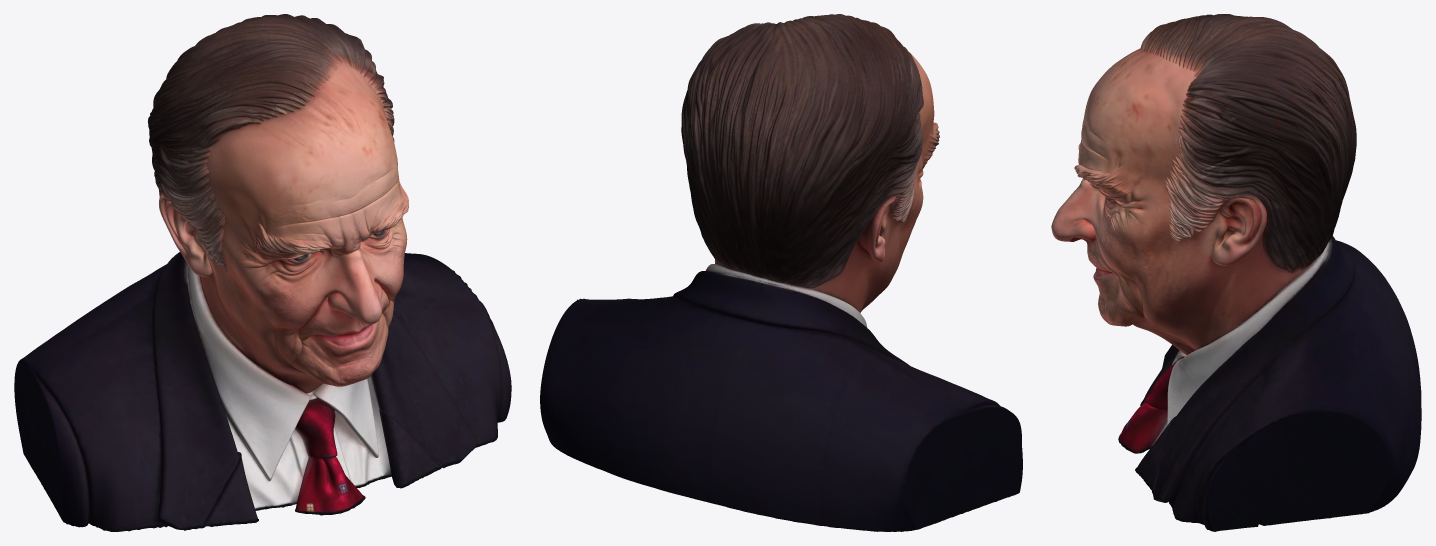
File: 3dmodel.glb
3 views of the same model, side by side, from view 1: azimuth 30°, elevation 25°; view 2: azimuth 150°, elevation 25°; view 3: azimuth 270°, elevation 25° (orthographic). The views are drawn at different scales.
Parts seen in each view (by area): view 1: world; view 2: world; view 3: world.
Part boxes in pixels (bbox=[...]): world: bbox=[14, 14, 511, 531]; world: bbox=[540, 14, 1022, 531]; world: bbox=[1051, 14, 1421, 531].
Bounding box in the file's own units: 0.9996 × 0.9481 × 0.7734.
Materials: 1 (1 with a texture image).
